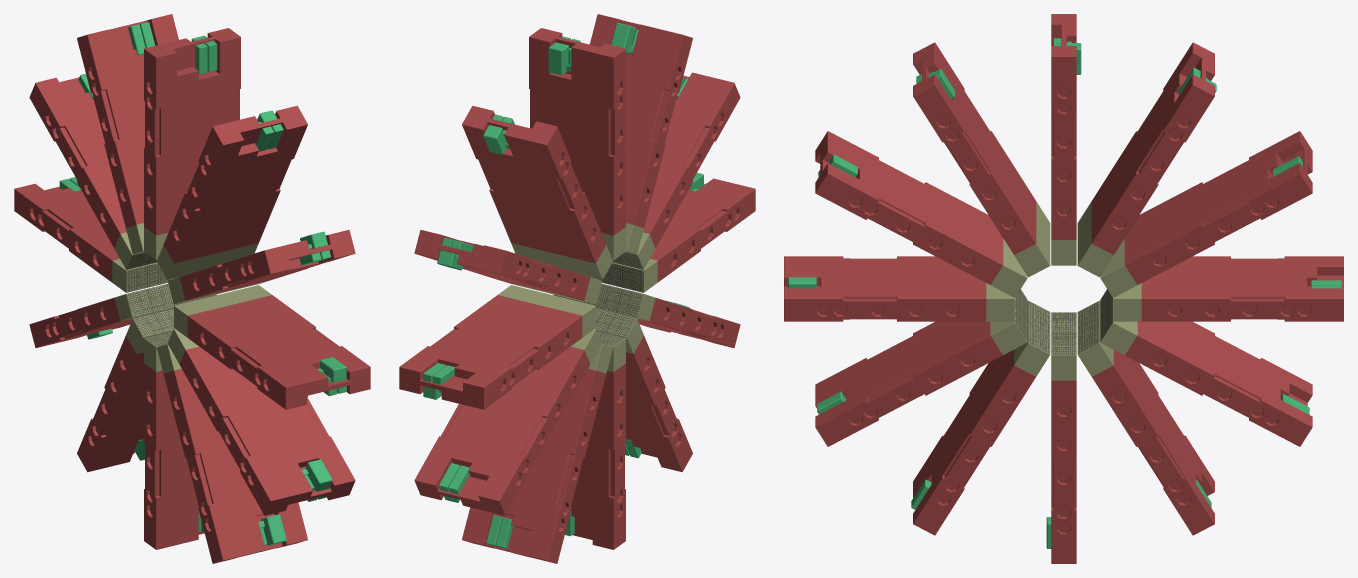
Rendered from pet.obj.
3 renders of one model, left to right at view 1: azimuth 30°, elevation 25°; view 2: azimuth 150°, elevation 25°; view 3: azimuth 270°, elevation 25°, orthographic. The views are drawn at different scales.
Parts seen in each view (by area): view 1: group16 pCube5 group6, group16 pCube5 group15, group16 pCube5 group7, pCube5 group4 group16, group16 pCube5 group14, group16 pCube5 group8, group16 pCube5 group13, group16 pCube5 group9, group16 pCube5 group12, group16 pCube5 group10, group16 pCube5 group5, group16 pCube5 group11 (+3 smaller); view 2: group16 pCube5 group11, group16 pCube5 group8, group16 pCube5 group7, group16 pCube5 group10, group16 pCube5 group12, group16 pCube5 group6, group16 pCube5 group5, group16 pCube5 group13, pCube5 group4 group16, group16 pCube5 group14, group16 pCube5 group9, group16 pCube5 group15 (+3 smaller); view 3: group16 pCube5 group9, group16 pCube5 group10, group16 pCube5 group5, pCube5 group4 group16, group16 pCube5 group11, group16 pCube5 group15, group16 pCube5 group8, group16 pCube5 group6, group16 pCube5 group12, group16 pCube5 group14, group16 pCube5 group13, group16 pCube5 group7.
Boxes of the visible parts, <box> form: group16 pCube5 group6: <box>157,105,307,279</box>; group16 pCube5 group15: <box>168,328,355,515</box>; group16 pCube5 group7: <box>144,28,240,260</box>; pCube5 group4 group16: <box>174,285,370,409</box>; group16 pCube5 group14: <box>156,344,307,563</box>; group16 pCube5 group8: <box>77,14,178,254</box>; group16 pCube5 group13: <box>144,331,204,549</box>; group16 pCube5 group9: <box>29,77,156,269</box>; group16 pCube5 group12: <box>77,308,174,472</box>; group16 pCube5 group10: <box>14,183,177,292</box>; group16 pCube5 group5: <box>167,230,355,304</box>; group16 pCube5 group11: <box>29,283,216,347</box>; group16 pCube5 group11: <box>414,328,601,515</box>; group16 pCube5 group8: <box>462,105,612,279</box>; group16 pCube5 group7: <box>529,28,625,260</box>; group16 pCube5 group10: <box>399,285,595,409</box>; group16 pCube5 group12: <box>462,344,613,563</box>; group16 pCube5 group6: <box>590,14,692,254</box>; group16 pCube5 group5: <box>613,72,740,269</box>; group16 pCube5 group13: <box>571,331,625,549</box>; pCube5 group4 group16: <box>592,178,755,292</box>; group16 pCube5 group14: <box>595,308,692,472</box>; group16 pCube5 group9: <box>414,230,602,304</box>; group16 pCube5 group15: <box>553,283,740,347</box>; group16 pCube5 group9: <box>1100,131,1312,297</box>; group16 pCube5 group10: <box>1113,256,1343,321</box>; group16 pCube5 group5: <box>815,131,1027,297</box>; pCube5 group4 group16: <box>784,256,1014,321</box>; group16 pCube5 group11: <box>1100,289,1312,446</box>; group16 pCube5 group15: <box>815,289,1027,446</box>; group16 pCube5 group8: <box>1077,42,1214,277</box>; group16 pCube5 group6: <box>913,42,1050,277</box>; group16 pCube5 group12: <box>1077,300,1214,535</box>; group16 pCube5 group14: <box>913,300,1050,535</box>; group16 pCube5 group13: <box>1051,312,1076,563</box>; group16 pCube5 group7: <box>1051,14,1076,265</box>.
Size of the model in its own units: 2.69 by 14.88 by 14.88.
2 materials, 1 textured.
